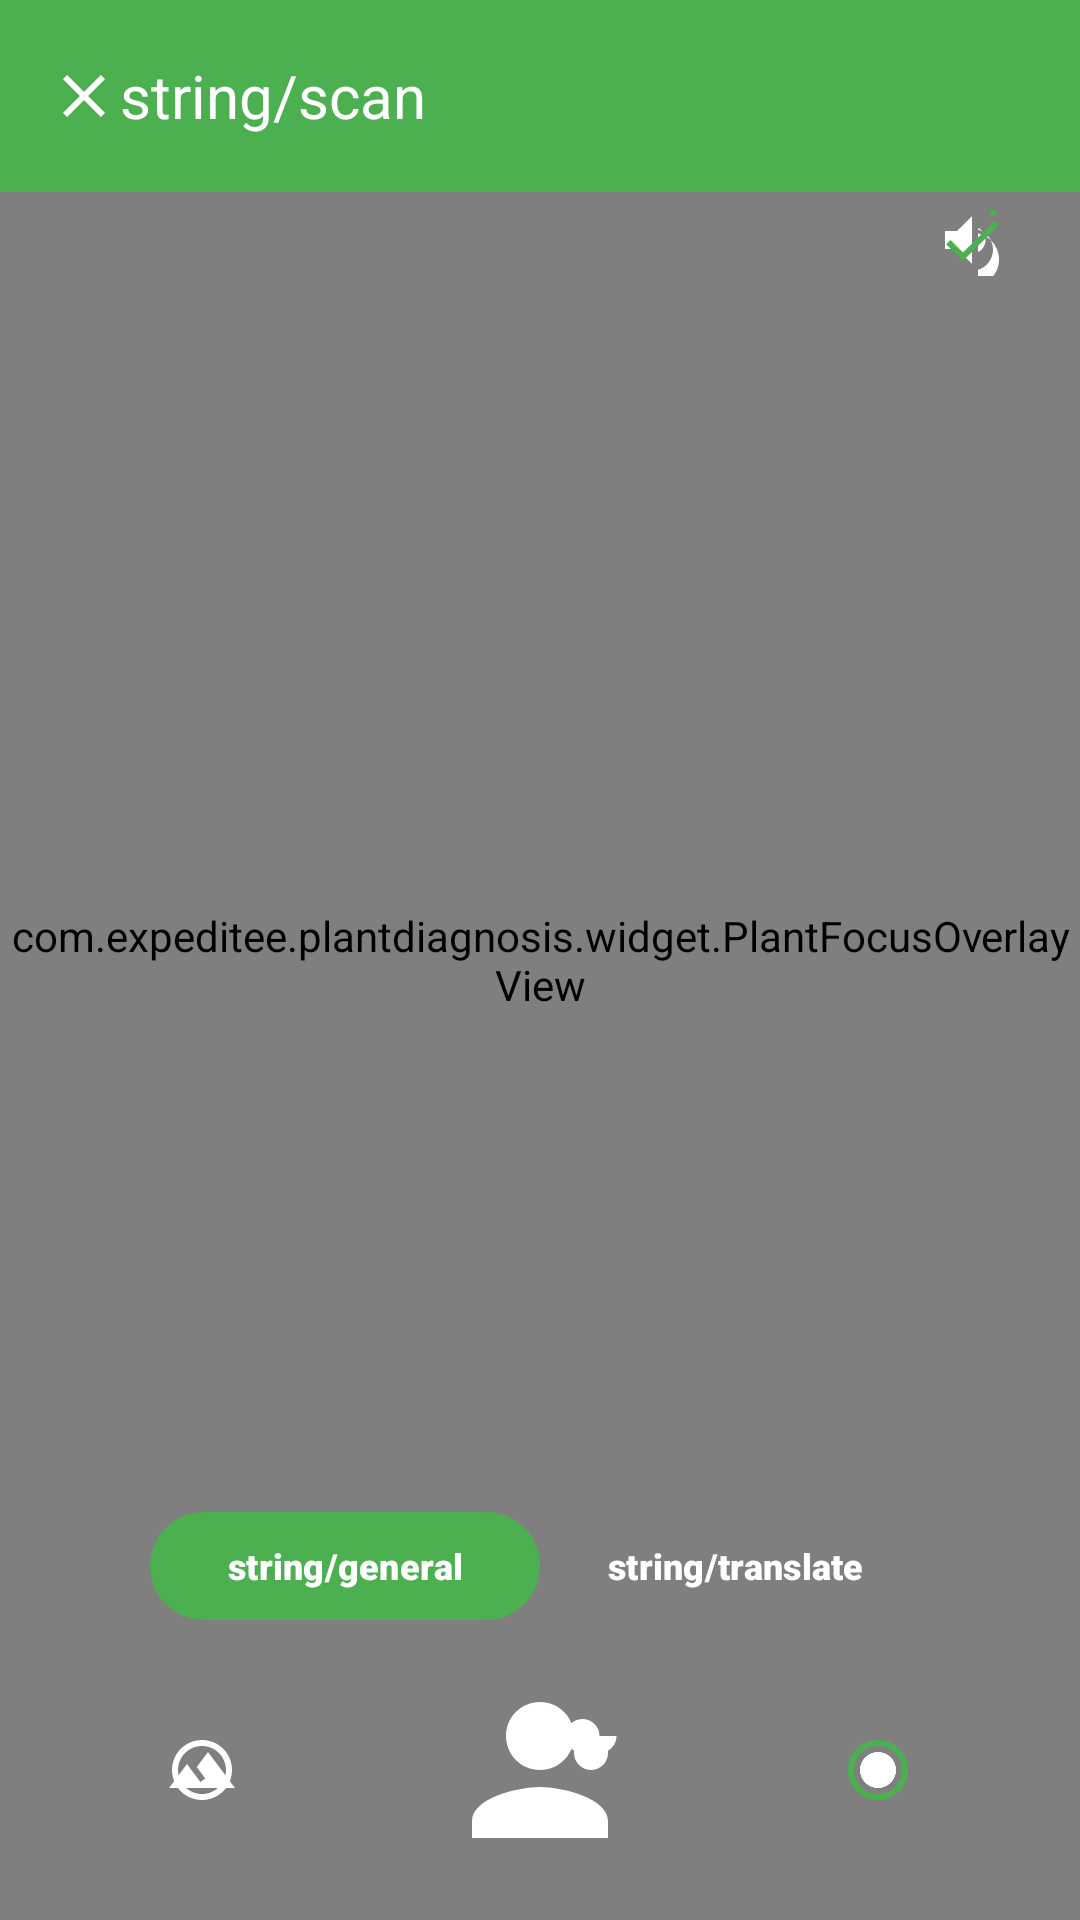

Screen size 1080*1920. Icon name, then its box in pixels as (x1, y1, x2, y2):
close: (63, 75, 105, 117)
gallery: (169, 1740, 235, 1800)
shutter: (848, 1740, 908, 1800)
